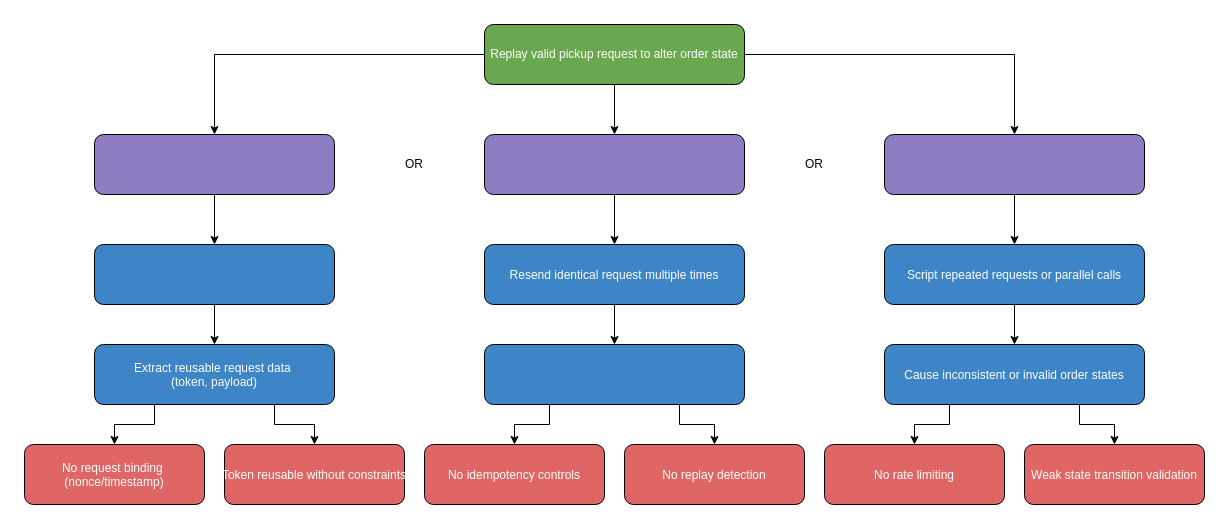
The diagram is 1222 pixels wide and 522 high, and some of its shapes have lost their labels. Each missing label, with the centre of its shape:
"Automate replay or modify timing" belongs at point (1014, 164).
"Capture valid pickup request" belongs at point (214, 164).
"Intercept request (proxy/logs/device compromise)" belongs at point (214, 274).
"Replay captured request" belongs at point (614, 164).
"System processes duplicate state changes" belongs at point (614, 374).
